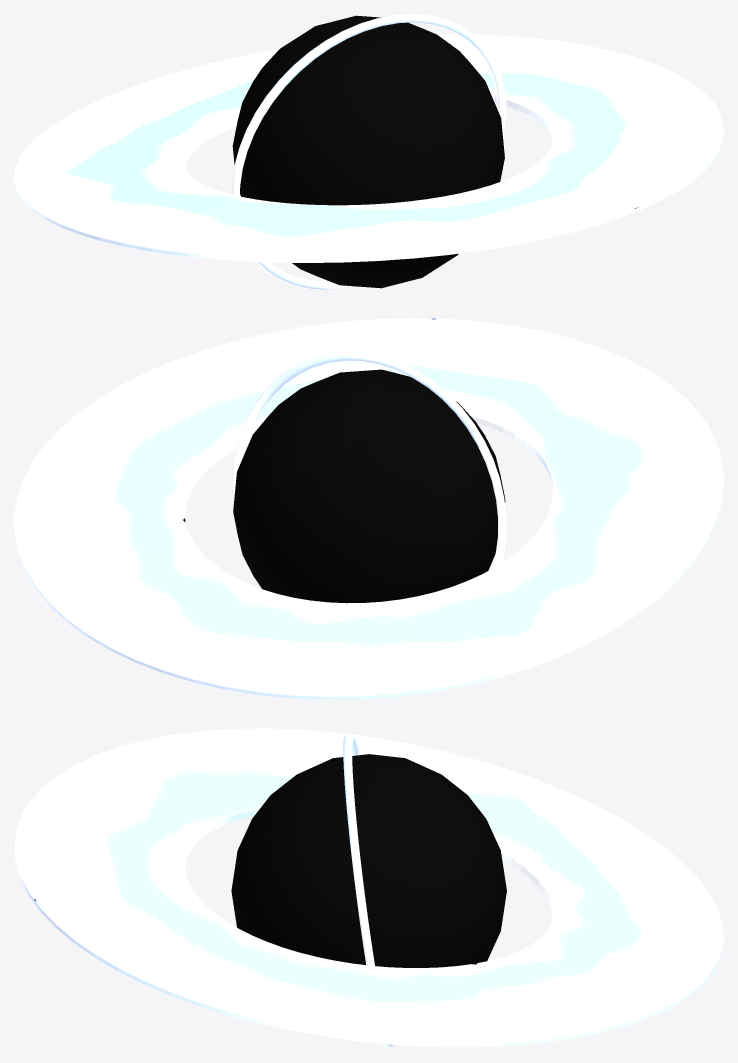
File: singularidad.fbx
3 views of the same model, one above another, from view 1: azimuth 30°, elevation 25°; view 2: azimuth 150°, elevation 25°; view 3: azimuth 270°, elevation 25° (orthographic).
Parts seen in each view (by area): view 1: singularidad_neon, singularidad; view 2: singularidad_neon, singularidad; view 3: singularidad_neon, singularidad.
Boxes of the visible parts, left/top/right/bottom form: singularidad_neon: left=14, top=14, right=723, bottom=289; singularidad: left=232, top=15, right=504, bottom=288; singularidad_neon: left=14, top=318, right=723, bottom=699; singularidad: left=233, top=369, right=505, bottom=603; singularidad_neon: left=14, top=728, right=723, bottom=1048; singularidad: left=231, top=754, right=506, bottom=967.
Bounding box in the file's own units: 6.86 × 3.02 × 6.8.
2 materials, 2 textured.
